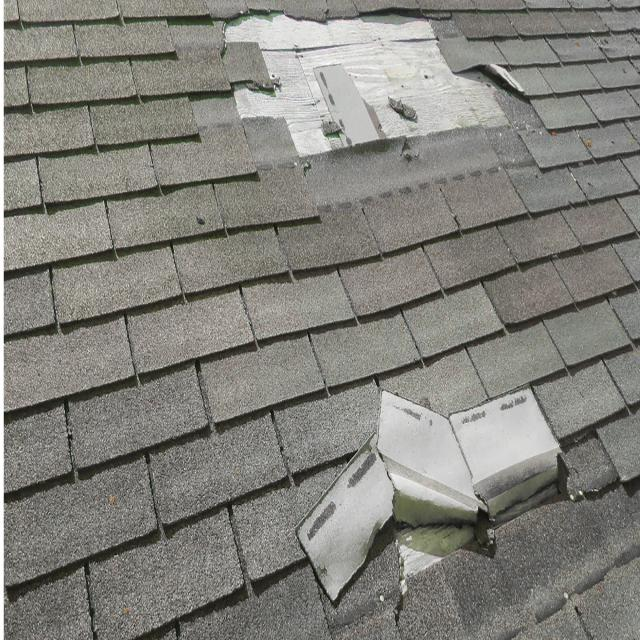damaged_roof: (216, 6, 534, 190), (377, 393, 583, 584)
